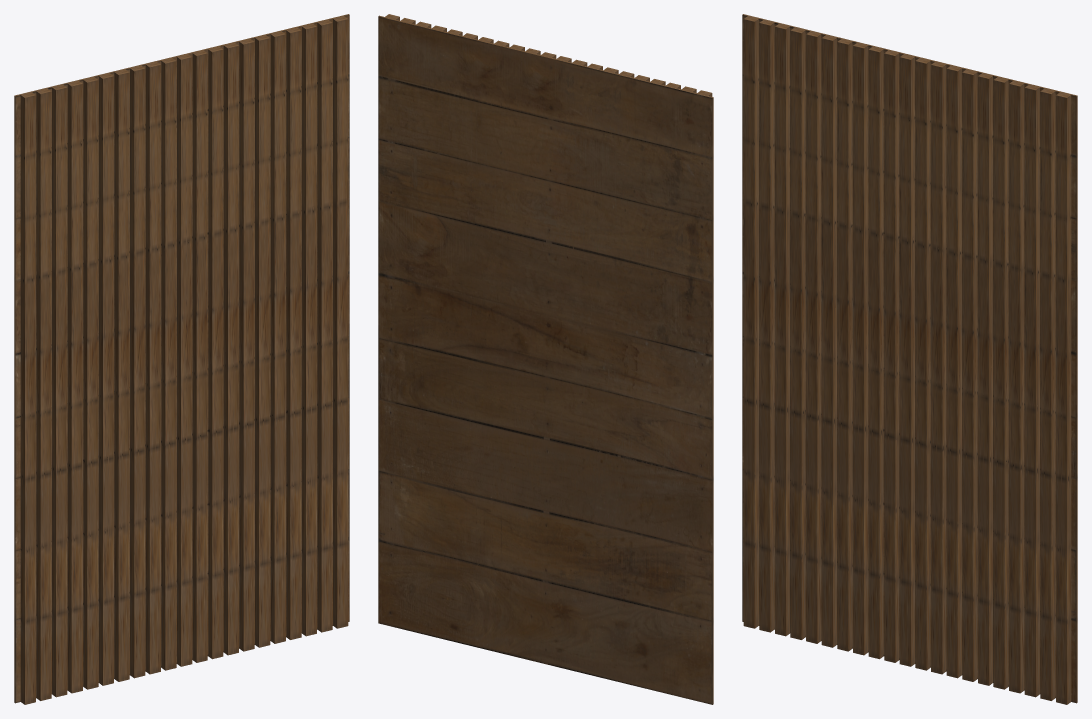
Rendered from painel_ripado_150x260.glb.
3 renders of one model, left to right at view 1: azimuth 30°, elevation 25°; view 2: azimuth 150°, elevation 25°; view 3: azimuth 330°, elevation 25°, orthographic.
Parts seen in each view (by area): view 1: painel_ripado_150x260; view 2: painel_ripado_150x260; view 3: painel_ripado_150x260.
Part boxes in pixels (x1,y1,x2,y2): painel_ripado_150x260: (14,14,349,704); painel_ripado_150x260: (378,14,713,704); painel_ripado_150x260: (742,14,1077,704).
Size of the model in its own units: 1.5 by 2.6 by 0.04.
Materials: 2 (2 with a texture image).
